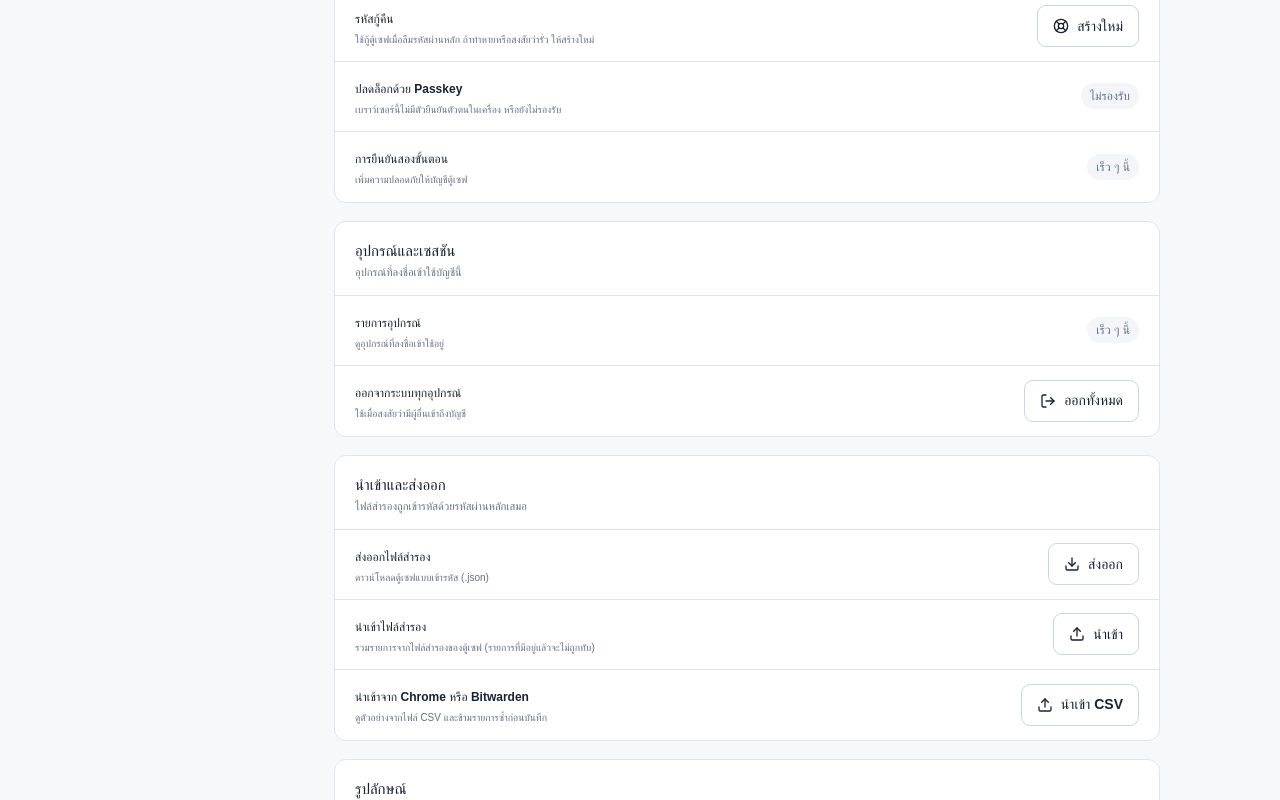
Test case: focuses Cancel so Enter does not confirm by accident
This screenshot has width=1280, height=800.
(page scrolled)
Click the button "ออกทั้งหมด".
click(1082, 400)  # box [1024,380,1139,422]
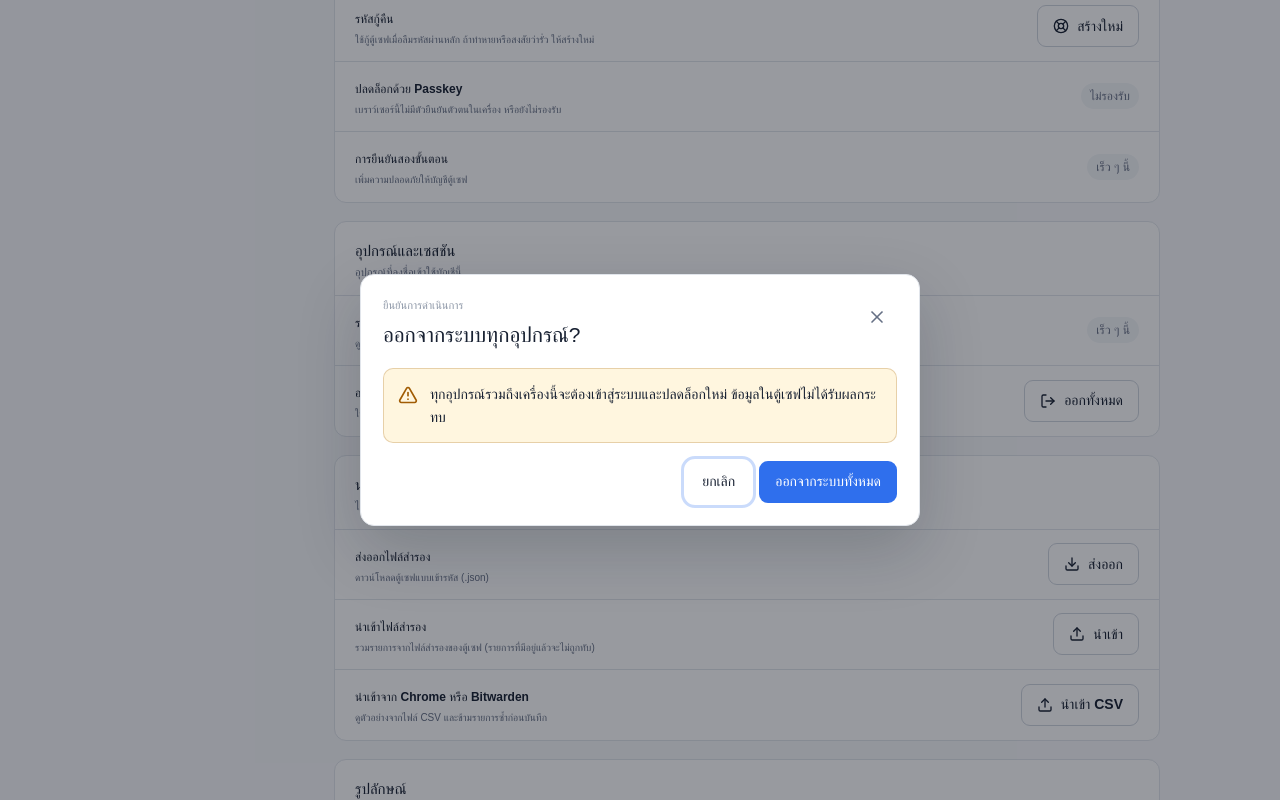
expect the button "ยกเลิก" is shown: met, box [686,461,751,503]
